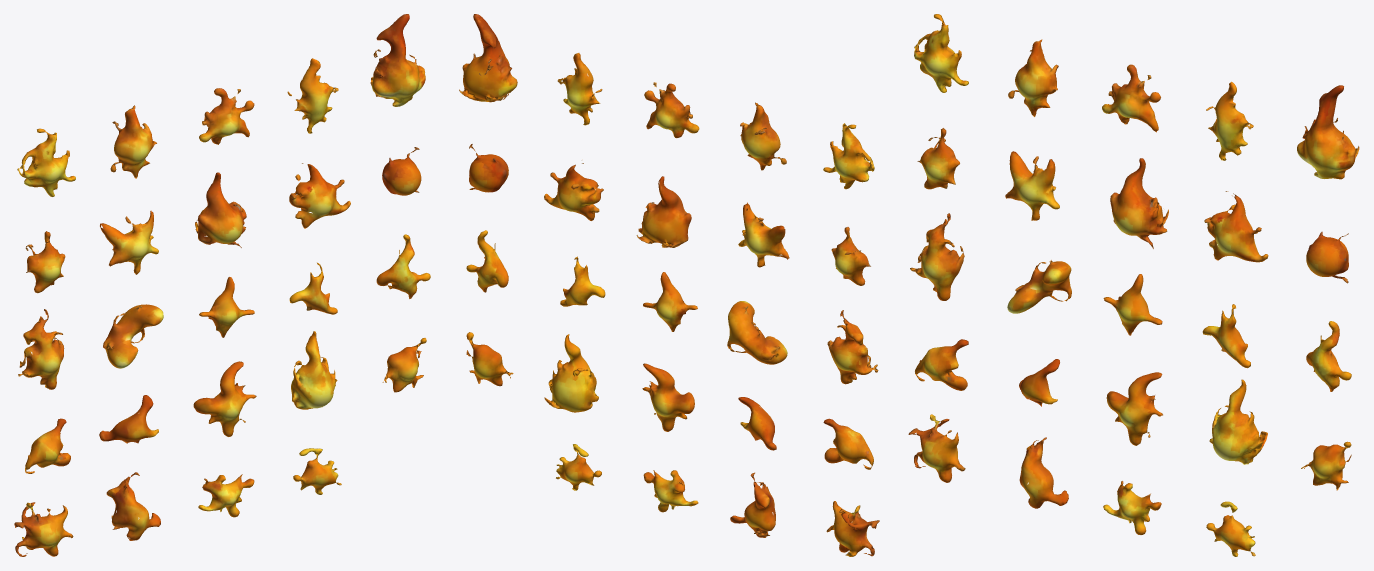
Rendered from embers.glb.
3 renders of one model, left to right at view 1: azimuth 30°, elevation 25°; view 2: azimuth 150°, elevation 25°; view 3: azimuth 330°, elevation 25°, orthographic. The views are drawn at different scales.
Parts seen in each view (by area): view 1: embers; view 2: embers; view 3: embers.
Part boxes in pixels (x1=…): embers: x1=14, y1=14, x2=430, y2=556; embers: x1=459, y1=14, x2=879, y2=556; embers: x1=908, y1=14, x2=1359, y2=556.
Size of the model in its own units: 0.9204 by 0.9766 by 0.11.
Materials: 1 (1 with a texture image).
